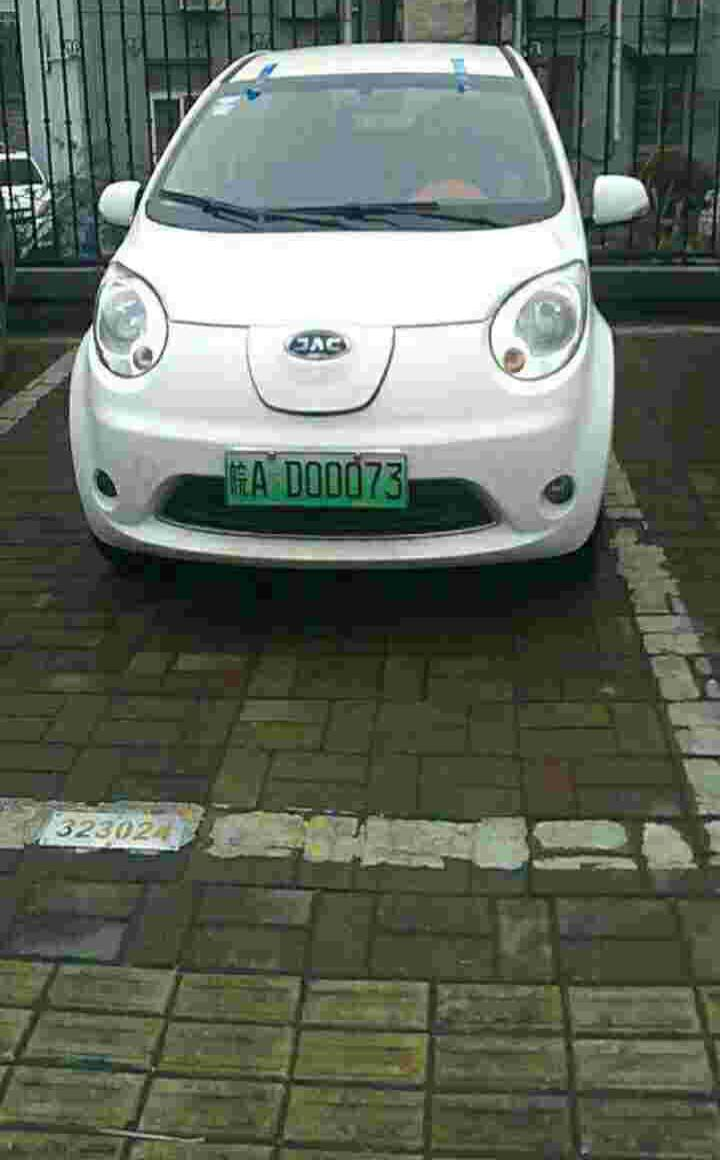car_green: (219, 441, 417, 516)
